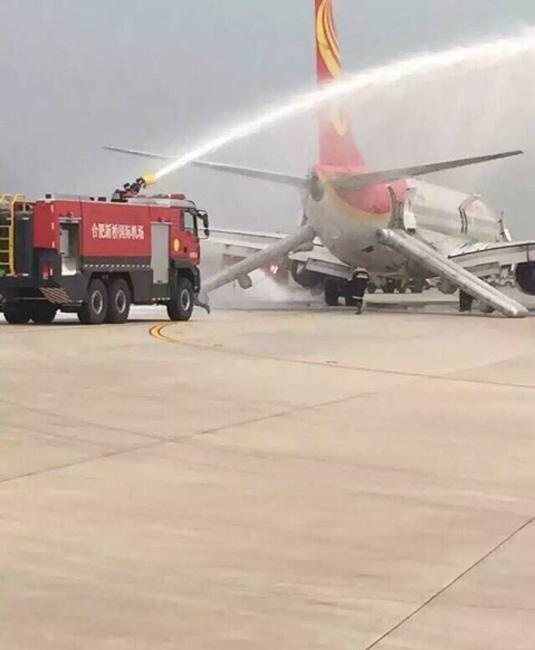airplane: (198, 1, 532, 317)
